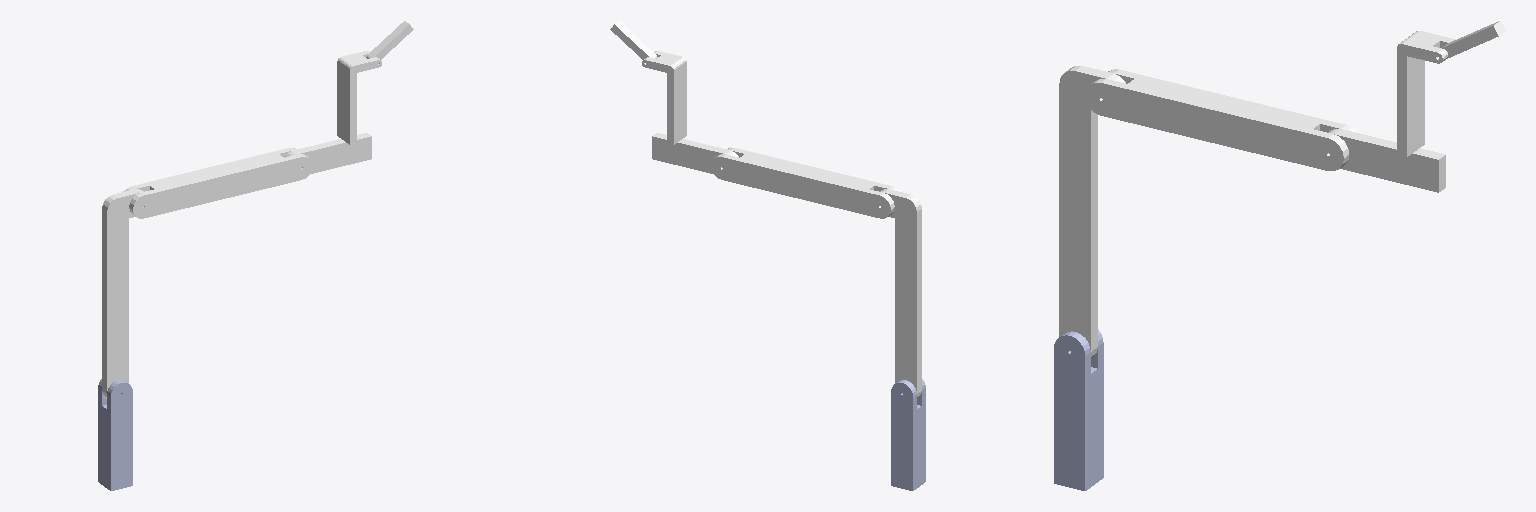
URDF robot description (bookarm_urdf):
<?xml version="1.0" encoding="utf-8"?>
<!-- This URDF was automatically created by SolidWorks to URDF Exporter! Originally created by Stephen Brawner (brawner@gmail.com) 
     Commit Version: 1.6.0-4-g7f85cfe  Build Version: 1.6.7995.38578
     For more information, please see http://wiki.ros.org/sw_urdf_exporter -->
<robot
  name="bookarm_urdf">
  <link
    name="base_link">
    <inertial>
      <origin
        xyz="-1.73472347597681E-18 0 0.062013586281338"
        rpy="0 0 0" />
      <mass
        value="0.109788490621049" />
      <inertia
        ixx="0.000158279940907156"
        ixy="1.12331127184701E-21"
        ixz="4.79103010790714E-21"
        iyy="0.000157454680973284"
        iyz="-1.6940658945086E-21"
        izz="1.7073910871453E-05" />
    </inertial>
    <visual>
      <origin
        xyz="0 0 0"
        rpy="0 0 0" />
      <geometry>
        <mesh
          filename="package://bookarm_urdf/meshes/base_link.STL" />
      </geometry>
      <material
        name="">
        <color
          rgba="0.792156862745098 0.819607843137255 0.933333333333333 1" />
      </material>
    </visual>
    <collision>
      <origin
        xyz="0 0 0"
        rpy="0 0 0" />
      <geometry>
        <mesh
          filename="package://bookarm_urdf/meshes/base_link.STL" />
      </geometry>
    </collision>
  </link>
  <link
    name="link1">
    <inertial>
      <origin
        xyz="-1.73472347597681E-18 0 0.062013586281338"
        rpy="0 0 0" />
      <mass
        value="0.109788490621049" />
      <inertia
        ixx="0.000158279940907156"
        ixy="1.13158307797254E-21"
        ixz="4.60574165069526E-21"
        iyy="0.000157454680973284"
        iyz="-1.82641479251709E-21"
        izz="1.7073910871453E-05" />
    </inertial>
    <visual>
      <origin
        xyz="0 0 0"
        rpy="0 0 0" />
      <geometry>
        <mesh
          filename="package://bookarm_urdf/meshes/link1.STL" />
      </geometry>
      <material
        name="">
        <color
          rgba="0.792156862745098 0.819607843137255 0.933333333333333 1" />
      </material>
    </visual>
    <collision>
      <origin
        xyz="0 0 0"
        rpy="0 0 0" />
      <geometry>
        <mesh
          filename="package://bookarm_urdf/meshes/link1.STL" />
      </geometry>
    </collision>
  </link>
  <joint
    name="joint1_base"
    type="revolute">
    <origin
      xyz="0 0 0"
      rpy="0 0 0" />
    <parent
      link="base_link" />
    <child
      link="link1" />
    <axis
      xyz="0 0 1" />
    <limit
      lower="-3.14159"
      upper="3.14159"
      effort="1"
      velocity="1" />
  </joint>
  <link
    name="link2">
    <inertial>
      <origin
        xyz="0.00269721600540463 -0.130135471711785 -2.73218947466347E-17"
        rpy="0 0 0" />
      <mass
        value="0.103788429202572" />
      <inertia
        ixx="0.000660871982416137"
        ixy="2.99411843372238E-05"
        ixz="2.79520872593919E-20"
        iyy="1.58790536849015E-05"
        iyz="-8.18842631978493E-20"
        izz="0.000674260113800176" />
    </inertial>
    <visual>
      <origin
        xyz="0 0 0"
        rpy="0 0 0" />
      <geometry>
        <mesh
          filename="package://bookarm_urdf/meshes/link2.STL" />
      </geometry>
      <material
        name="">
        <color
          rgba="1 1 1 1" />
      </material>
    </visual>
    <collision>
      <origin
        xyz="0 0 0"
        rpy="0 0 0" />
      <geometry>
        <mesh
          filename="package://bookarm_urdf/meshes/link2.STL" />
      </geometry>
    </collision>
  </link>
  <joint
    name="joint2_shoulder"
    type="revolute">
    <origin
      xyz="0 0 0.12306"
      rpy="-1.5708 0 0" />
    <parent
      link="link1" />
    <child
      link="link2" />
    <axis
      xyz="0 0 1" />
    <limit
      lower="-1.59"
      upper="1.69"
      effort="1"
      velocity="1" />
  </joint>
  <link
    name="link3">
    <inertial>
      <origin
        xyz="0.107995 5.55111512312578E-17 3.13984949151802E-16"
        rpy="0 0 0" />
      <mass
        value="0.192459981242098" />
      <inertia
        ixx="3.00802717429061E-05"
        ixy="2.87197108678411E-20"
        ixz="-1.53204768228906E-18"
        iyy="0.000796459608262644"
        iyz="5.9292306307801E-21"
        izz="0.000794809088394899" />
    </inertial>
    <visual>
      <origin
        xyz="0 0 0"
        rpy="0 0 0" />
      <geometry>
        <mesh
          filename="package://bookarm_urdf/meshes/link3.STL" />
      </geometry>
      <material
        name="">
        <color
          rgba="1 1 1 1" />
      </material>
    </visual>
    <collision>
      <origin
        xyz="0 0 0"
        rpy="0 0 0" />
      <geometry>
        <mesh
          filename="package://bookarm_urdf/meshes/link3.STL" />
      </geometry>
    </collision>
  </link>
  <joint
    name="joint3_elbow"
    type="revolute">
    <origin
      xyz="0.03 -0.23682 0"
      rpy="0 0 0" />
    <parent
      link="link2" />
    <child
      link="link3" />
    <axis
      xyz="0 0 1" />
    <limit
      lower="-2.78"
      upper="1.7"
      effort="1"
      velocity="1" />
  </joint>
  <link
    name="link4">
    <inertial>
      <origin
        xyz="0.0587684470913418 -0.0370078621275774 -3.63858249086135E-16"
        rpy="0 0 0" />
      <mass
        value="0.0784629420437175" />
      <inertia
        ixx="4.65405711679836E-05"
        ixy="5.6757545742447E-06"
        ixz="1.62292836182904E-21"
        iyy="4.85268765300473E-05"
        iyz="-7.14684049245816E-21"
        izz="8.81271993985392E-05" />
    </inertial>
    <visual>
      <origin
        xyz="0 0 0"
        rpy="0 0 0" />
      <geometry>
        <mesh
          filename="package://bookarm_urdf/meshes/link4.STL" />
      </geometry>
      <material
        name="">
        <color
          rgba="1 1 1 1" />
      </material>
    </visual>
    <collision>
      <origin
        xyz="0 0 0"
        rpy="0 0 0" />
      <geometry>
        <mesh
          filename="package://bookarm_urdf/meshes/link4.STL" />
      </geometry>
    </collision>
  </link>
  <joint
    name="joint4_wrist"
    type="revolute">
    <origin
      xyz="0.21599 0 0"
      rpy="0 0 0" />
    <parent
      link="link3" />
    <child
      link="link4" />
    <axis
      xyz="0 0 1" />
    <limit
      lower="-2.04"
      upper="2.1"
      effort="1"
      velocity="1" />
  </joint>
  <link
    name="link5">
    <inertial>
      <origin
        xyz="-0.0560260423486564 -2.79028565940021E-05 -0.000736143589927435"
        rpy="0 0 0" />
      <mass
        value="0.0398735837418763" />
      <inertia
        ixx="3.39266432204395E-06"
        ixy="-1.87669450850484E-08"
        ixz="-3.87732617095061E-07"
        iyy="4.46727093019296E-05"
        iyz="-2.82886409056906E-08"
        izz="4.22431930219849E-05" />
    </inertial>
    <visual>
      <origin
        xyz="0 0 0"
        rpy="0 0 0" />
      <geometry>
        <mesh
          filename="package://bookarm_urdf/meshes/link5.STL" />
      </geometry>
      <material
        name="">
        <color
          rgba="1 1 1 1" />
      </material>
    </visual>
    <collision>
      <origin
        xyz="0 0 0"
        rpy="0 0 0" />
      <geometry>
        <mesh
          filename="package://bookarm_urdf/meshes/link5.STL" />
      </geometry>
    </collision>
  </link>
  <joint
    name="joint5_gripper"
    type="fixed">
    <origin
      xyz="0.1 0 0"
      rpy="1.5824 0.00034577 0.011878" />
    <parent
      link="link4" />
    <child
      link="link5" />
    <axis
      xyz="0 0 0" />
  </joint>
  <link
    name="link6">
    <inertial>
      <origin
        xyz="0.0237680315145962 -0.0154351401409365 -3.71230823859037E-16"
        rpy="0 0 0" />
      <mass
        value="0.00758641589639154" />
      <inertia
        ixx="8.91619658324369E-07"
        ixy="1.13593549739876E-06"
        ixz="-7.66434536318665E-23"
        iyy="1.90312179452863E-06"
        iyz="3.30872245021211E-24"
        izz="2.6126674713396E-06" />
    </inertial>
    <visual>
      <origin
        xyz="0 0 0"
        rpy="0 0 0" />
      <geometry>
        <mesh
          filename="package://bookarm_urdf/meshes/link6.STL" />
      </geometry>
      <material
        name="">
        <color
          rgba="1 1 1 1" />
      </material>
    </visual>
    <collision>
      <origin
        xyz="0 0 0"
        rpy="0 0 0" />
      <geometry>
        <mesh
          filename="package://bookarm_urdf/meshes/link6.STL" />
      </geometry>
    </collision>
  </link>
  <joint
    name="joint_pole"
    type="revolute">
    <origin
      xyz="0.104 -0.112 0"
      rpy="0 0 0" />
    <parent
      link="link4" />
    <child
      link="link6" />
    <axis
      xyz="0 0 1" />
    <limit
      lower="-1.26"
      upper="1.94"
      effort="1"
      velocity="1" />
  </joint>
</robot>

--- Render facts (derived) ---
The picture shows the robot from 3 angles, left to right: view 1: azimuth 30°, elevation 25°; view 2: azimuth 150°, elevation 25°; view 3: azimuth 330°, elevation 25°; orthographic projection.
Robot: bookarm_urdf — 7 links, 6 joints (5 revolute, 1 fixed); root link base_link; default pose: every joint at zero.
Links seen in each view (by area): view 1: link3, link2, base_link, link4, link5, link6; view 2: link3, link2, base_link, link4, link5, link6; view 3: link3, link2, base_link, link4, link5, link6.
Boxes of the visible links, <box> form: link3: <box>123,147,312,218</box>; link2: <box>102,189,143,398</box>; base_link: <box>98,379,132,490</box>; link4: <box>290,51,381,173</box>; link5: <box>285,133,371,160</box>; link6: <box>366,21,413,59</box>; link3: <box>711,147,900,218</box>; link2: <box>880,189,921,398</box>; base_link: <box>891,379,925,490</box>; link4: <box>642,51,738,160</box>; link5: <box>652,134,733,173</box>; link6: <box>610,21,657,59</box>; link3: <box>1085,69,1357,170</box>; link2: <box>1059,66,1125,358</box>; base_link: <box>1054,329,1103,490</box>; link4: <box>1328,31,1455,192</box>; link5: <box>1329,129,1445,191</box>; link6: <box>1442,21,1505,58</box>.
Size in the robot's own frame: 0.418 by 0.03 by 0.5088 metres.
Meshes: 7 distinct files referenced, 6 mesh visuals loaded (6 binary STL); not drawn: 1 (reference not matched to a file when rendering).
